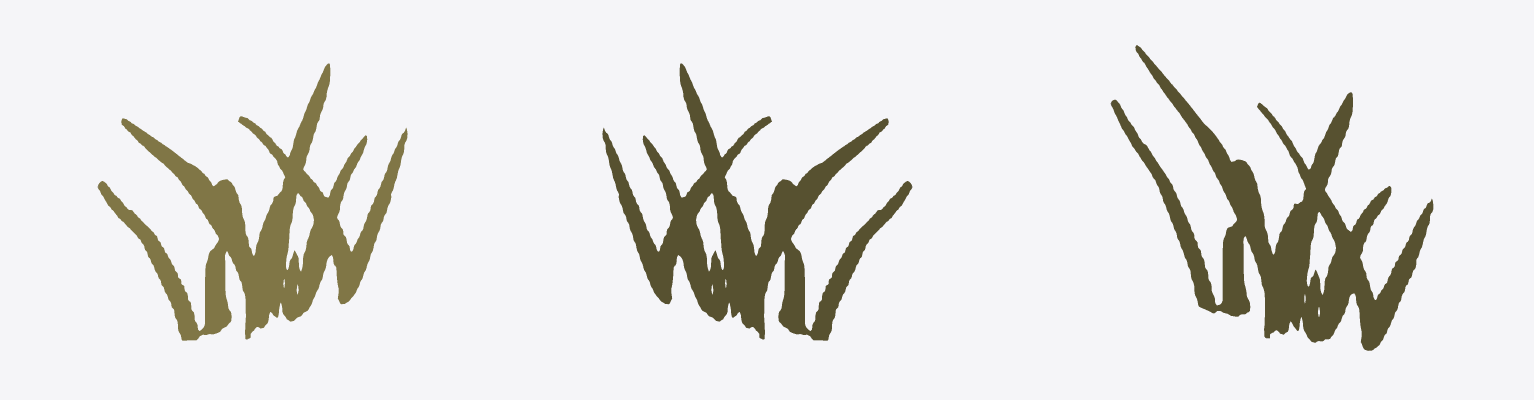
The model's file is SM_Grass_01.fbx.
3 renders of one model, left to right at view 1: azimuth 30°, elevation 25°; view 2: azimuth 150°, elevation 25°; view 3: azimuth 330°, elevation 25°, orthographic. The views are drawn at different scales.
Parts seen in each view (by area): view 1: SM_Grass_01; view 2: SM_Grass_01; view 3: SM_Grass_01.
Boxes of the visible parts, left/top/right/bottom form: SM_Grass_01: left=97, top=63, right=407, bottom=340; SM_Grass_01: left=602, top=63, right=912, bottom=340; SM_Grass_01: left=1110, top=45, right=1433, bottom=350.
Bounding box in the file's own units: 73.42 × 47.81 × 1.91e-06.
Materials: 1 (1 with a texture image).
